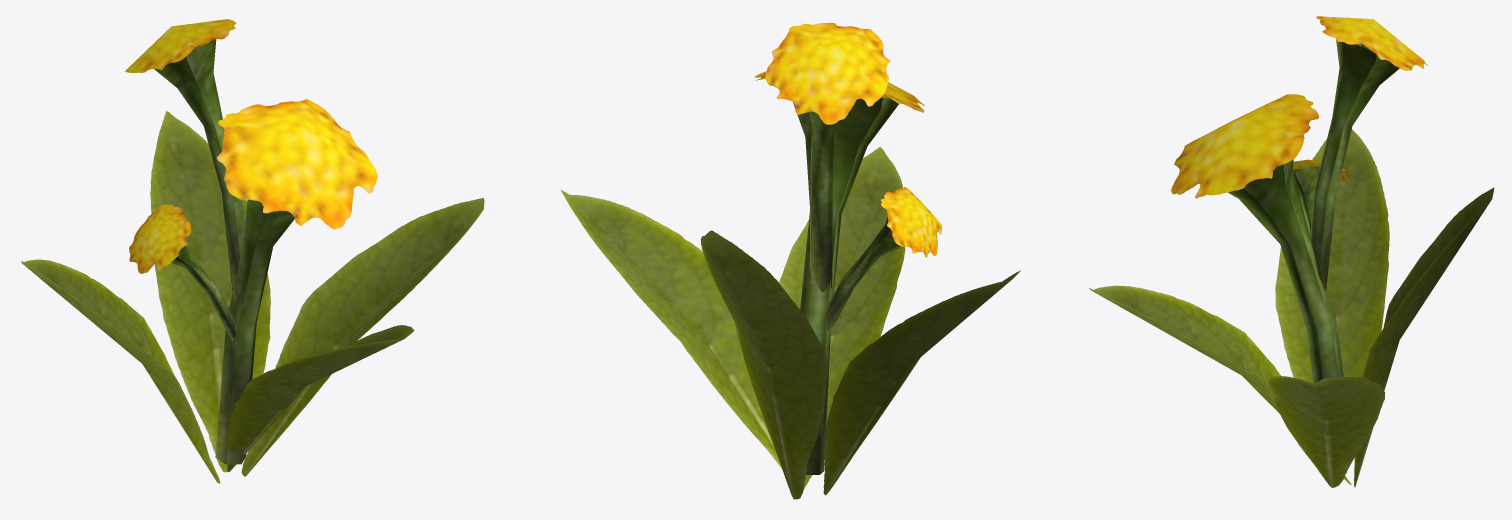
Rendered from yellowf1.fbx.
The picture shows the model from 3 angles, left to right: view 1: azimuth 30°, elevation 25°; view 2: azimuth 150°, elevation 25°; view 3: azimuth 270°, elevation 25°; orthographic projection. The views are drawn at different scales.
Visible parts, largest first — view 1: yellowflower01; view 2: yellowflower01; view 3: yellowflower01.
Boxes of the visible parts, x1,y1,x2,y2 form: yellowflower01: (21,19,484,483); yellowflower01: (560,22,1020,499); yellowflower01: (1089,16,1494,487).
Bounding box in the file's own units: 24.35 × 23.21 × 19.32.
